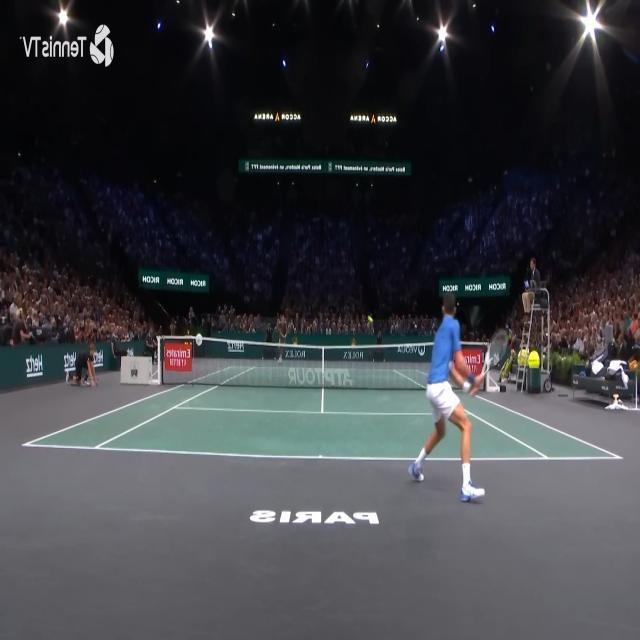court: (19, 366, 623, 461)
net: (157, 334, 490, 394)
player: (406, 291, 508, 504)
